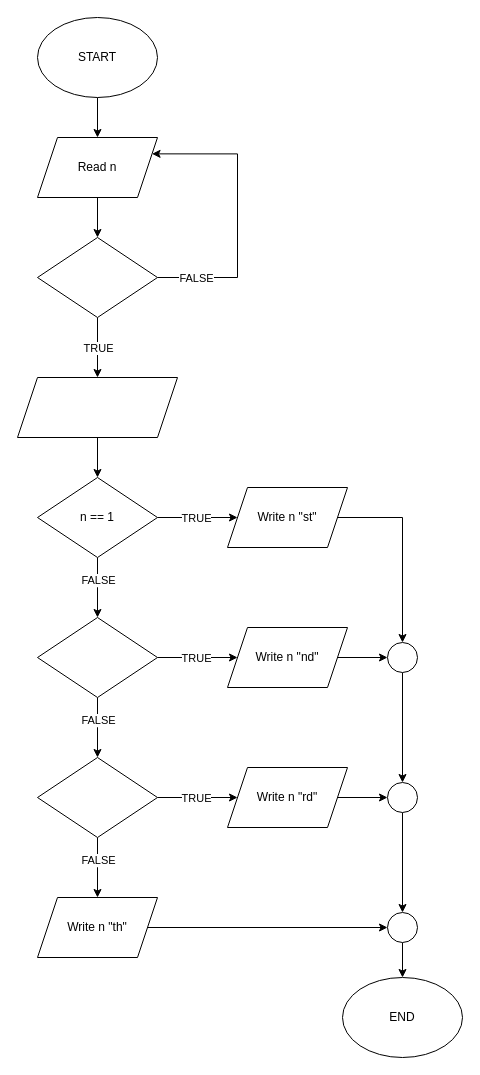
The diagram is 480 pixels wide and 1075 high, and some of its shapes have lost their labels. The centre of each missing label's shape, as x and y in pixels:
n == 2: the point at 97,657
n == 3: the point at 97,797
n > 0 AND n % 1 == 0: the point at 97,277
Write "Finishing position:" n: the point at 97,407
